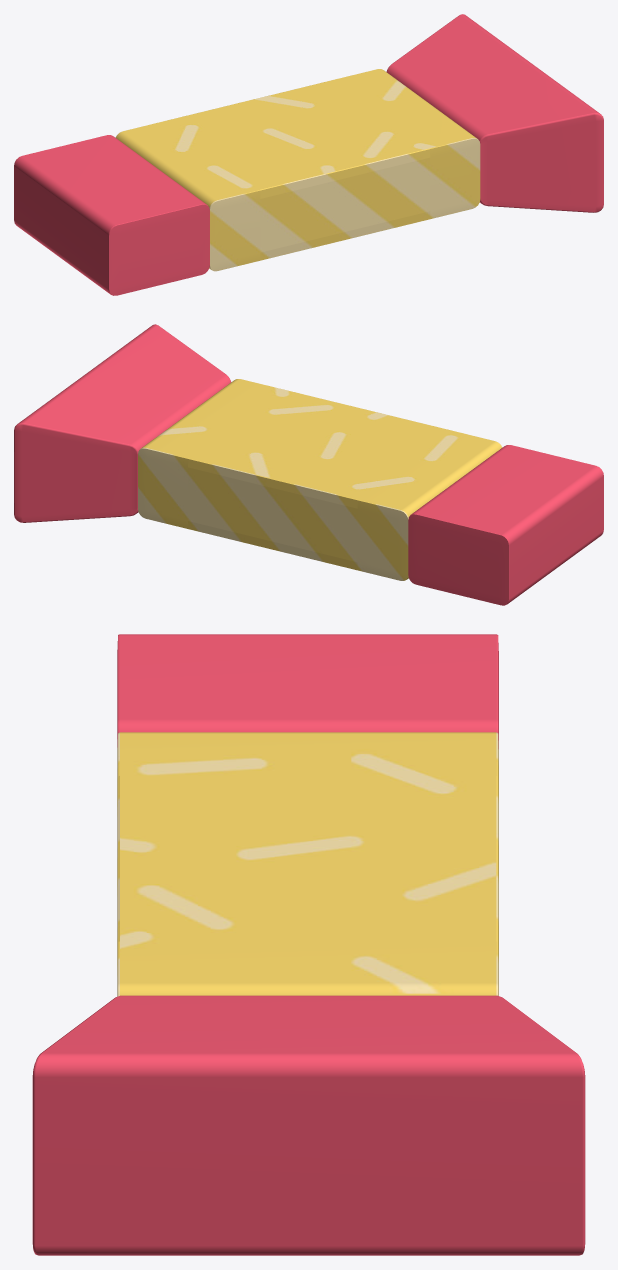
Rendered from piston_00 1.fbx.
3 renders of one model, top to bottom at view 1: azimuth 30°, elevation 25°; view 2: azimuth 150°, elevation 25°; view 3: azimuth 270°, elevation 25°, orthographic. The views are drawn at different scales.
Visible parts, largest first — view 1: pCube10, pCube13, pCube9; view 2: pCube10, pCube13, pCube9; view 3: pCube13, pCube10, pCube9.
Boxes of the visible parts, <box> form: pCube10: <box>115,69,480,271</box>; pCube13: <box>386,14,603,212</box>; pCube9: <box>14,135,209,295</box>; pCube10: <box>138,379,502,580</box>; pCube13: <box>14,324,230,522</box>; pCube9: <box>408,445,603,605</box>; pCube13: <box>32,995,585,1255</box>; pCube10: <box>117,732,498,996</box>; pCube9: <box>117,634,498,748</box>.
Bounding box in the file's own units: 6534 × 3297 × 1316.
